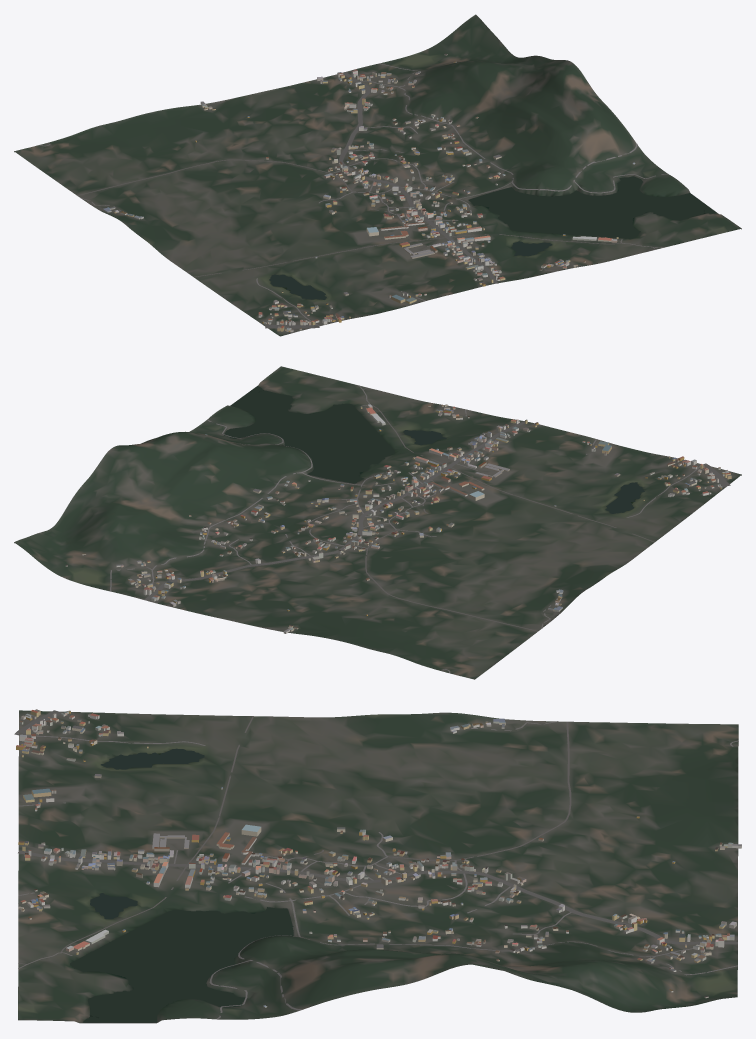
3 renders of one model, top to bottom at view 1: azimuth 30°, elevation 25°; view 2: azimuth 150°, elevation 25°; view 3: azimuth 270°, elevation 25°, orthographic. The views are drawn at different scales.
Parts seen in each view (by area): view 1: ground, water, buildings, roads; view 2: ground, water, buildings, roads; view 3: ground, water, buildings, roads.
Part boxes in pixels (x1,y1,x2,y2): ground: (14,14,741,336); water: (269,176,717,299); buildings: (103,53,635,332); roads: (39,63,668,328); ground: (14,366,741,679); water: (224,386,644,513); buildings: (65,404,731,633); roads: (110,385,730,673); ground: (18,710,738,1023); water: (70,748,293,1022); buildings: (16,709,741,1007); roads: (14,710,738,1019).
Bounding box in the file's own units: 1408 × 145 × 1418.
